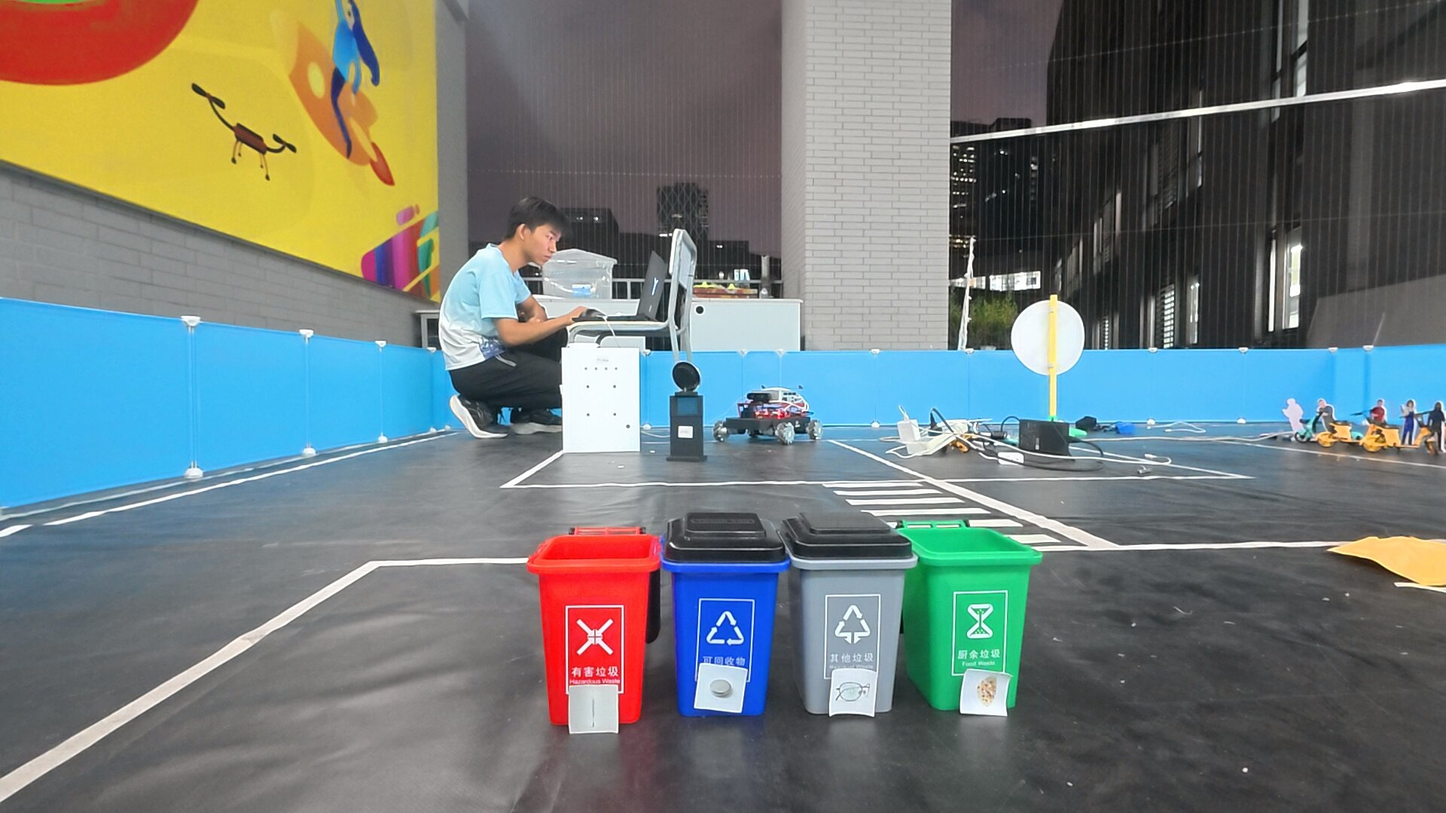food_trash: (967, 670, 1007, 720)
hazardous_trash: (568, 688, 617, 733), (701, 664, 742, 710)
other_trash: (833, 671, 876, 714)
